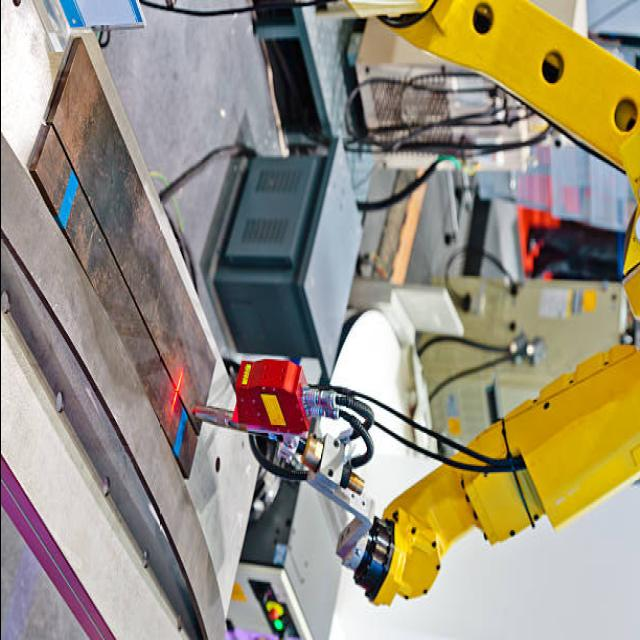Robotic-arm: (326, 1, 640, 630)
